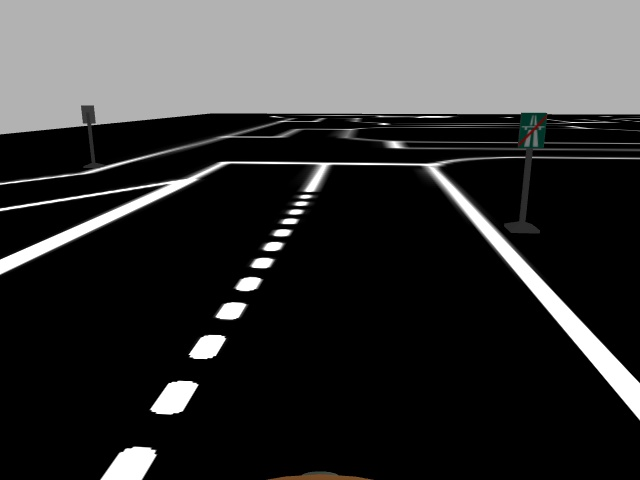leave_highway: (515, 112, 548, 150)
